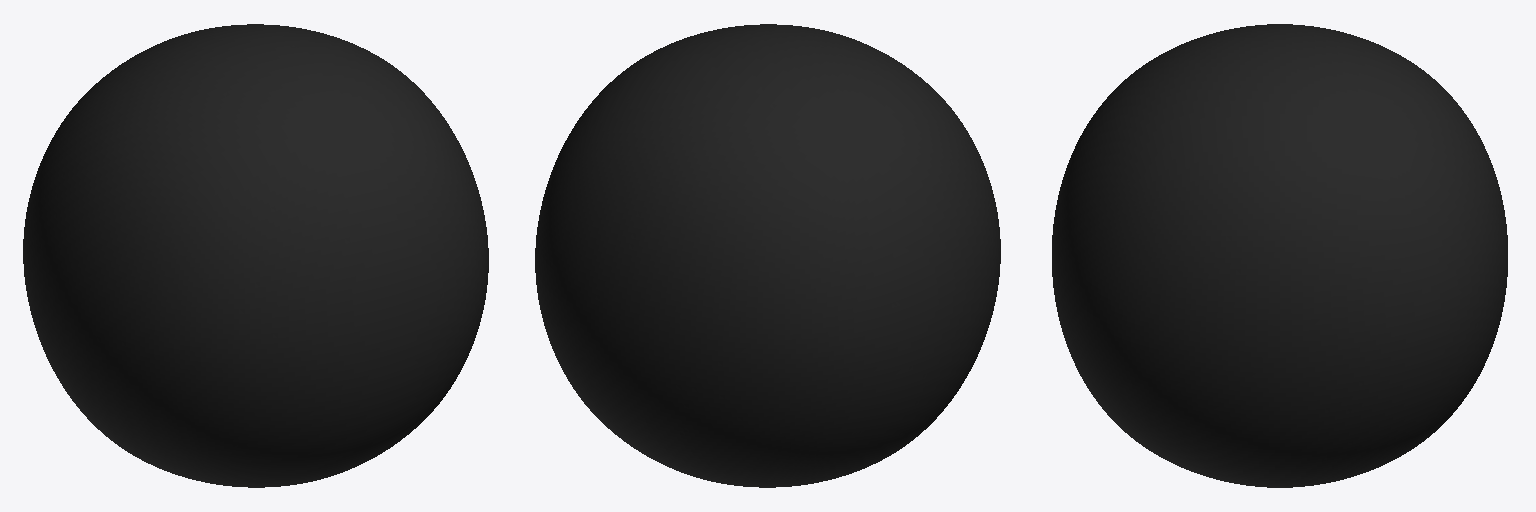
Rendered from cube_subdiv_6.obj.
3 renders of one model, left to right at view 1: azimuth 30°, elevation 25°; view 2: azimuth 150°, elevation 25°; view 3: azimuth 270°, elevation 25°, orthographic.
Visible parts, largest first — view 1: Cube_Cube.011; view 2: Cube_Cube.011; view 3: Cube_Cube.011.
Boxes of the visible parts, x1,y1,x2,y2 form: Cube_Cube.011: [23, 24, 488, 487]; Cube_Cube.011: [535, 24, 1000, 487]; Cube_Cube.011: [1052, 24, 1507, 487].
Size of the model in its own units: 1.68 by 1.68 by 1.68.